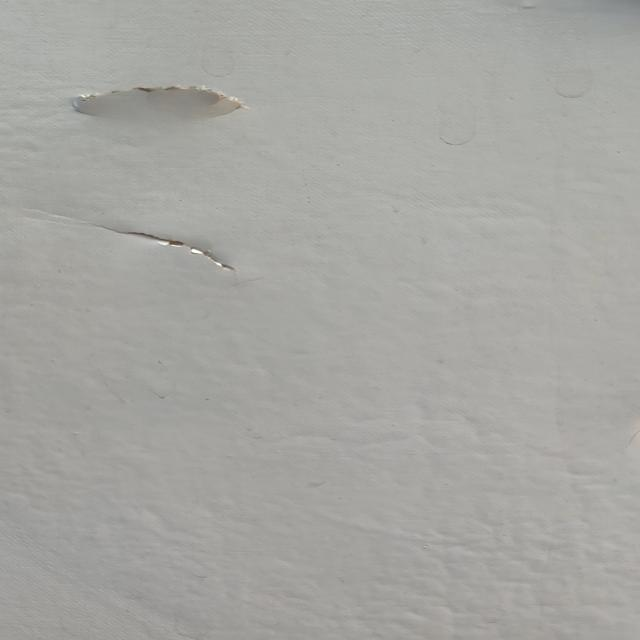Scratches: (90, 223, 290, 280), (68, 75, 254, 120)
